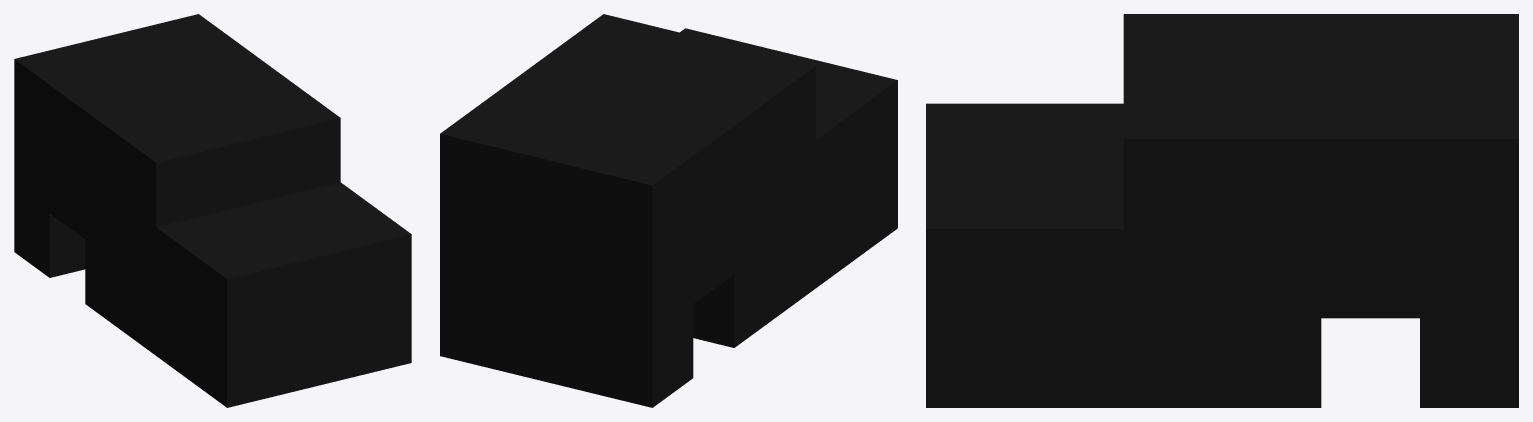
The model's file is foot modeling.obj.
The picture shows the model from 3 angles, left to right: view 1: azimuth 30°, elevation 25°; view 2: azimuth 150°, elevation 25°; view 3: azimuth 270°, elevation 25°; orthographic projection. The views are drawn at different scales.
Bounding box in the file's own units: 0.3 × 0.3 × 0.6.
Materials: 1 (1 with a texture image).
